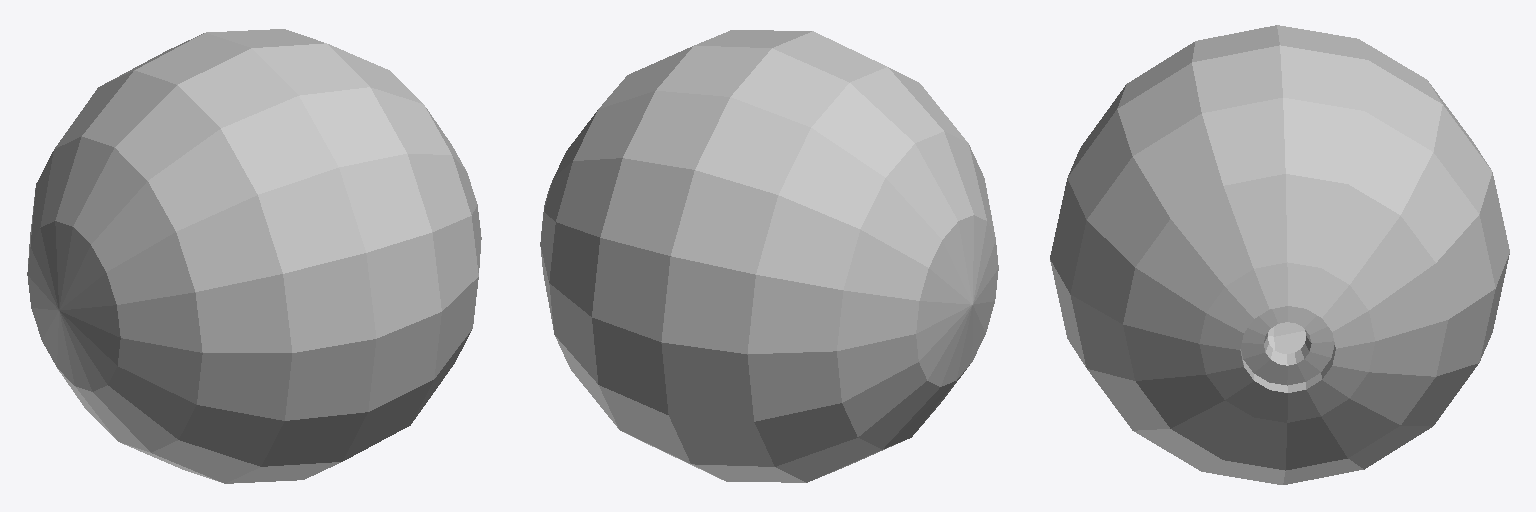
The model's file is LEyePitch.obj.
3 views of the same model, side by side, from view 1: azimuth 30°, elevation 25°; view 2: azimuth 150°, elevation 25°; view 3: azimuth 270°, elevation 25° (orthographic).
Parts seen in each view (by area): view 1: LEye_LEye; view 2: LEye_LEye; view 3: LEye_LEye.
Part boxes in pixels (x1,y1,x2,y2): LEye_LEye: (27,29,481,483); LEye_LEye: (540,30,998,482); LEye_LEye: (1050,25,1509,484).
Size of the model in its own units: 0.0604 by 0.06 by 0.06.